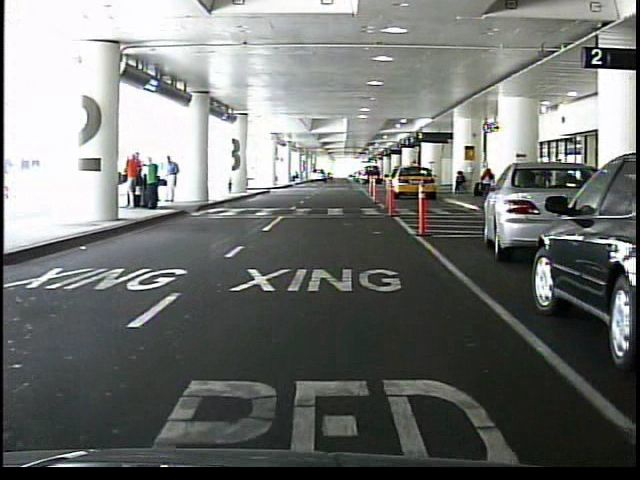person: (144, 155, 161, 210), (165, 155, 181, 204), (128, 150, 141, 207), (480, 162, 494, 196), (451, 171, 467, 196)
